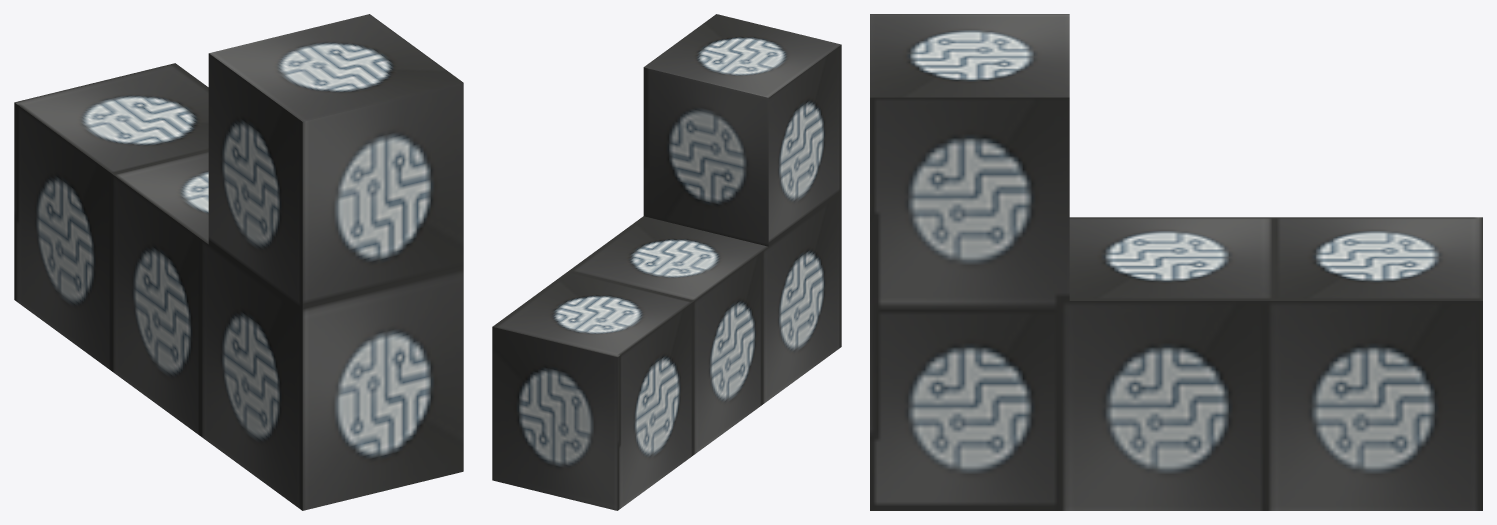
Rendered from Nivel3MPF3.fbx.
3 views of the same model, side by side, from view 1: azimuth 30°, elevation 25°; view 2: azimuth 150°, elevation 25°; view 3: azimuth 270°, elevation 25° (orthographic). The views are drawn at different scales.
Visible parts, largest first — view 1: pCube10; view 2: pCube10; view 3: pCube10.
Part boxes in pixels (x1=…): pCube10: x1=14, y1=14, x2=463, y2=510; pCube10: x1=492, y1=14, x2=841, y2=510; pCube10: x1=870, y1=14, x2=1482, y2=510.
Size of the model in its own units: 0.5548 by 1.28 by 1.72.
1 material, 1 textured.
